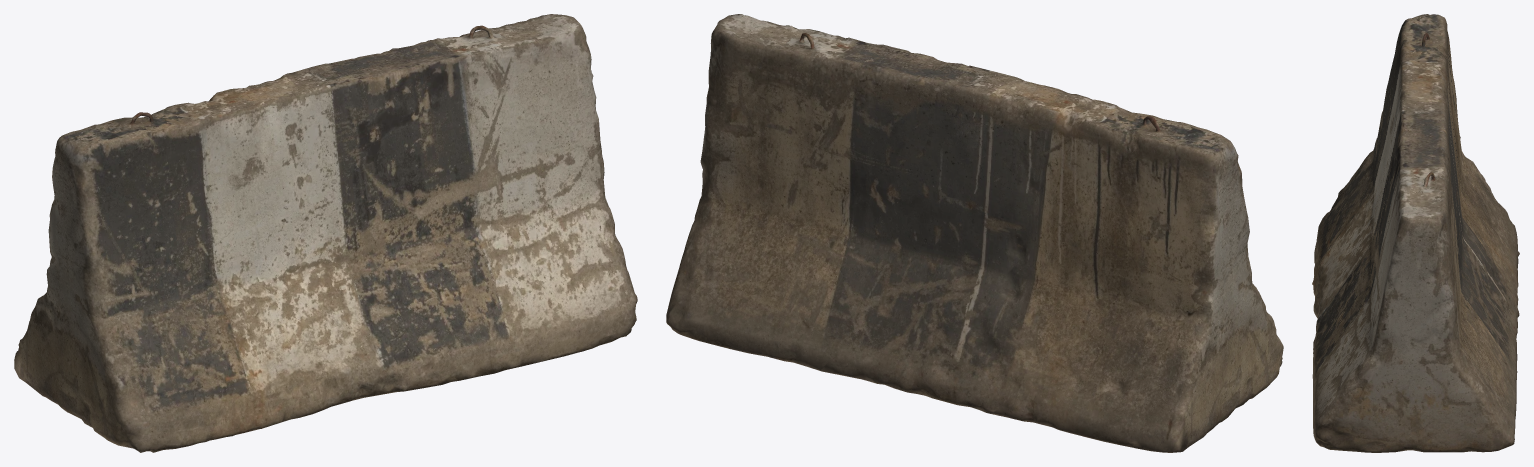
The model's file is concrete_road_barrier.glb.
3 renders of one model, left to right at view 1: azimuth 30°, elevation 25°; view 2: azimuth 150°, elevation 25°; view 3: azimuth 270°, elevation 25°, orthographic. The views are drawn at different scales.
Visible parts, largest first — view 1: concrete_road_barrier; view 2: concrete_road_barrier; view 3: concrete_road_barrier.
Part boxes in pixels (<box>): concrete_road_barrier: <box>14,14,637,452</box>; concrete_road_barrier: <box>666,14,1283,452</box>; concrete_road_barrier: <box>1312,14,1519,452</box>.
Size of the model in its own units: 1.54 by 0.8303 by 0.6387.
1 material, 1 textured.
